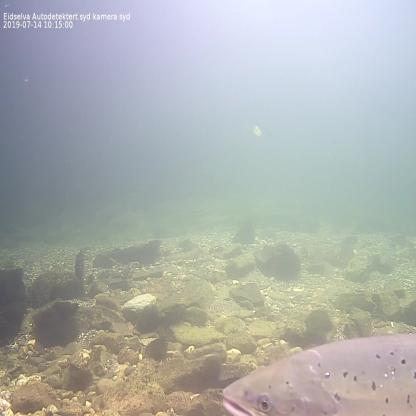salmon: (220, 326, 416, 415)
